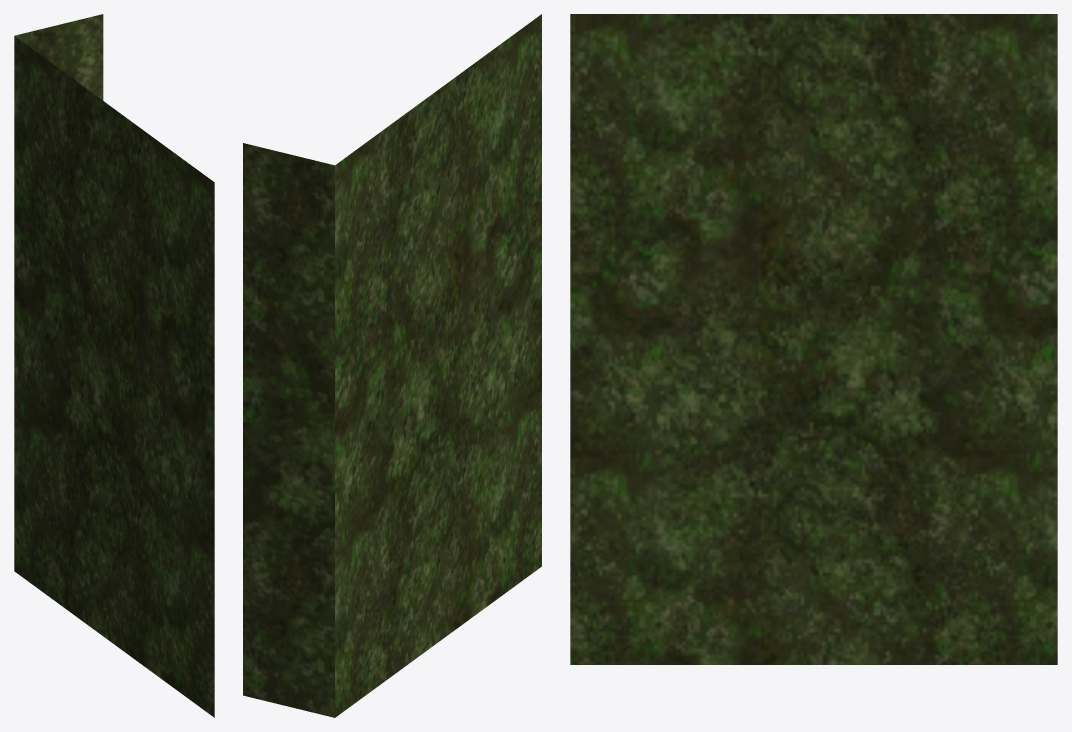
The model's file is OVERHILL_A_01_OBJECT285.fbx.
3 views of the same model, side by side, from view 1: azimuth 30°, elevation 25°; view 2: azimuth 150°, elevation 25°; view 3: azimuth 270°, elevation 25° (orthographic). The views are drawn at different scales.
Visible parts, largest first — view 1: OVERHILL_A_01_OBJECT285; view 2: OVERHILL_A_01_OBJECT285; view 3: OVERHILL_A_01_OBJECT285.
Part boxes in pixels (x1=…): OVERHILL_A_01_OBJECT285: x1=14, y1=14, x2=214, y2=717; OVERHILL_A_01_OBJECT285: x1=243, y1=14, x2=541, y2=717; OVERHILL_A_01_OBJECT285: x1=570, y1=14, x2=1057, y2=664.
Size of the model in its own units: 8373 by 48105 by 32639.
1 material, 1 textured.
